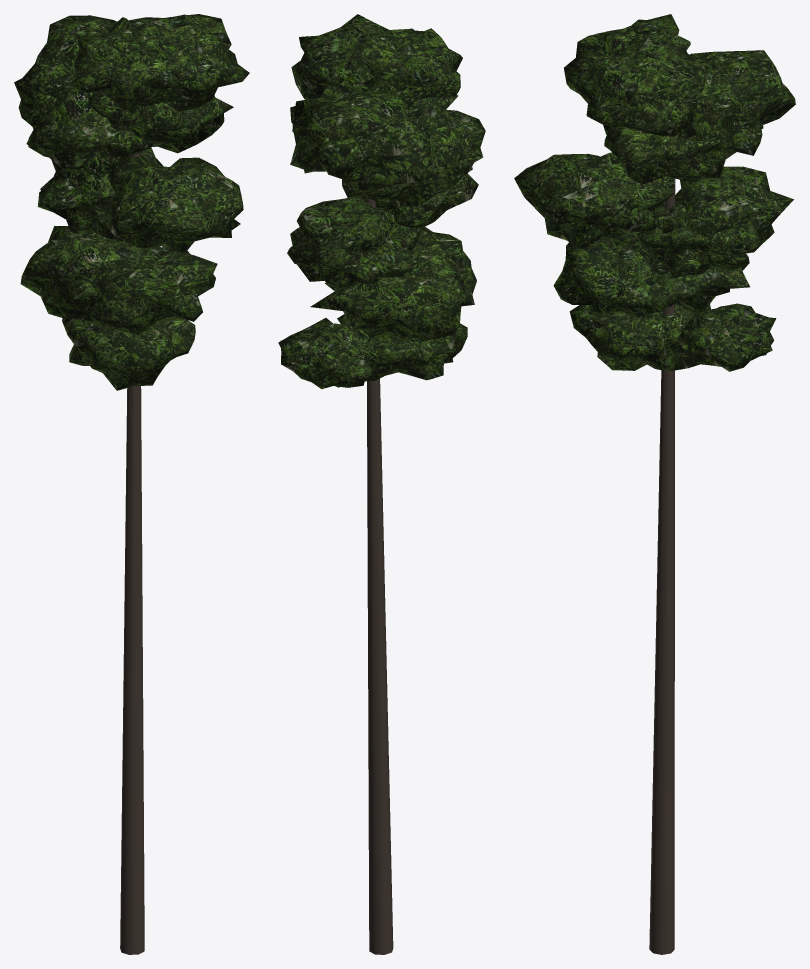
Rendered from SM_Plant_Pine.fbx.
3 renders of one model, left to right at view 1: azimuth 30°, elevation 25°; view 2: azimuth 150°, elevation 25°; view 3: azimuth 270°, elevation 25°, orthographic. The views are drawn at different scales.
Visible parts, largest first — view 1: SM_Plant_Pine; view 2: SM_Plant_Pine; view 3: SM_Plant_Pine.
Boxes of the visible parts, bbox=[...] form: SM_Plant_Pine: bbox=[14, 14, 249, 954]; SM_Plant_Pine: bbox=[278, 14, 485, 954]; SM_Plant_Pine: bbox=[514, 14, 795, 954].
Size of the model in its own units: 4.64 by 20.9 by 5.81.
2 materials, 1 textured.
